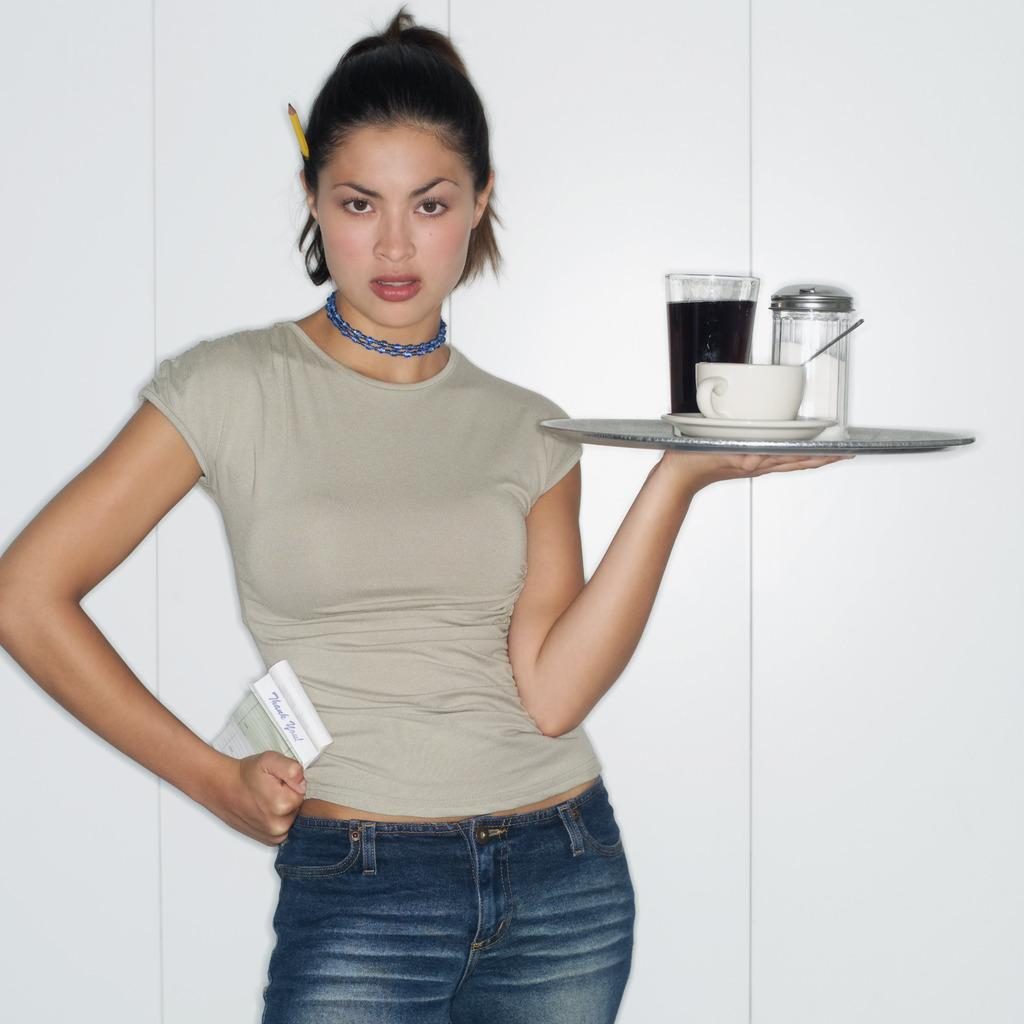face: (317, 97, 481, 327)
